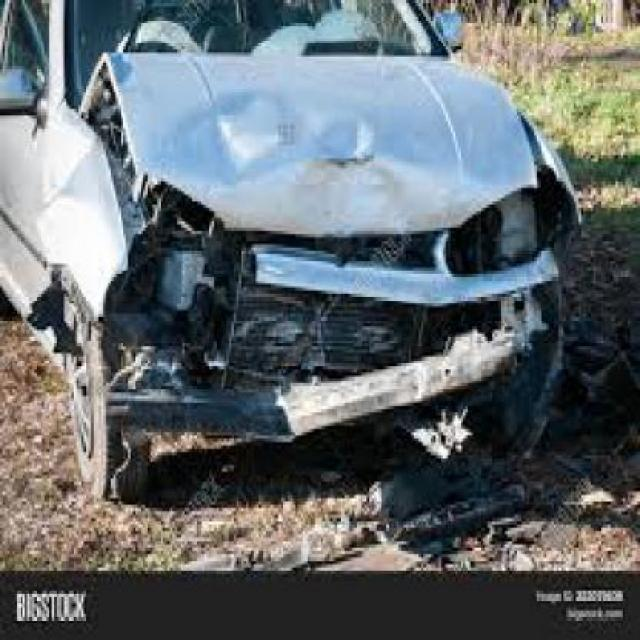damaged-front-bumper: (127, 245, 556, 430)
